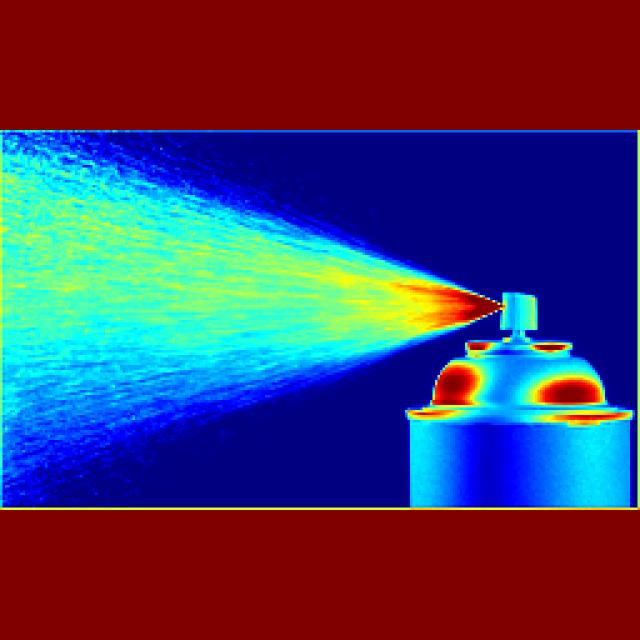Aerosol Cans: (397, 270, 634, 516)
